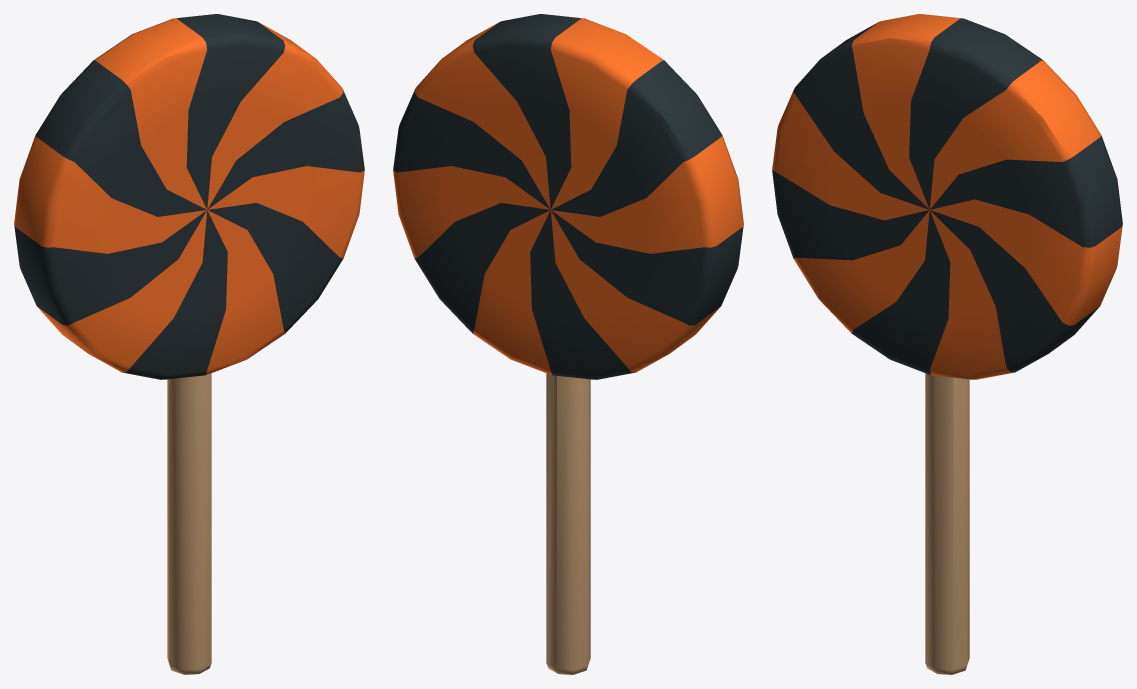
File: lollipopB.gltf.glb
The picture shows the model from 3 angles, left to right: view 1: azimuth 30°, elevation 25°; view 2: azimuth 150°, elevation 25°; view 3: azimuth 330°, elevation 25°; orthographic projection.
Parts seen in each view (by area): view 1: lollipopB; view 2: lollipopB; view 3: lollipopB.
Boxes of the visible parts, x1=… form: lollipopB: x1=14, y1=14, x2=364, y2=674; lollipopB: x1=393, y1=14, x2=743, y2=674; lollipopB: x1=772, y1=14, x2=1122, y2=674.
Size of the model in its own units: 0.6861 by 1.3 by 0.1308.
